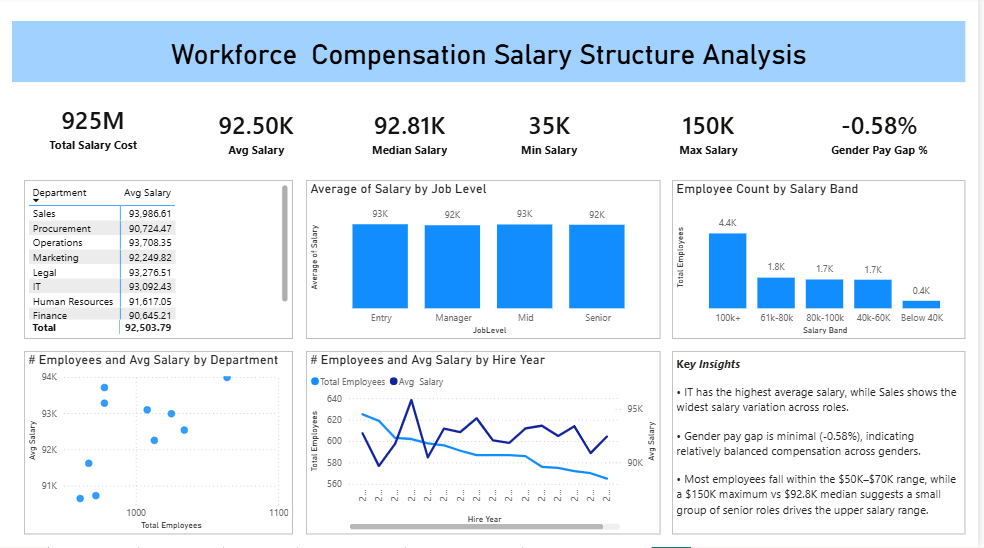

This screenshot's page, from the dashboard's own definition file:
{"tool":"powerbi","page":{"name":"Salary ","canvas":[1280,720],"ordinal":2},"visuals":[{"type":"clusteredColumnChart","title":"Average of Salary by Job Level","fields":{"Category":["DimJobRole.JobRole","DimJobRole.JobLevel"],"Y":["Avg(FactEmployee.Salary)"]},"box":[400,240,464,208],"z":0},{"type":"pivotTable","fields":{"Rows":["DimDepartment.Department"],"Values":["DimDepartment.Min Salary","DimDepartment.Max Salary","DimDepartment.Avg  Salary"]},"box":[32,240,352,208],"z":1000},{"type":"textbox","box":[880,464,384,240],"z":2000},{"type":"columnChart","title":"Employee Count by Salary Band","fields":{"Category":["FactEmployee.Salary Band"],"Y":["DimDepartment.Total Employees"]},"box":[880,240,384,208],"z":3000},{"type":"cardVisual","fields":{"Data":["DimDepartment.Total Salary Cost"]},"box":[0,96,224,128],"z":4000},{"type":"cardVisual","fields":{"Data":["DimDepartment.Avg  Salary"]},"box":[224,112,224,128],"z":5000},{"type":"cardVisual","fields":{"Data":["DimDepartment.Total Salary Cost"]},"box":[10,106,224,128],"z":6000},{"type":"cardVisual","fields":{"Data":["FactEmployee.Median Salary"]},"box":[416,112,240,128],"z":7000},{"type":"cardVisual","fields":{"Data":["DimDepartment.Min Salary"]},"box":[608,112,224,128],"z":8000},{"type":"cardVisual","fields":{"Data":["DimDepartment.Max Salary"]},"box":[816,112,224,128],"z":9000},{"type":"cardVisual","fields":{"Data":["FactEmployee.Gender Pay Gap %"]},"box":[1040,112,224,128],"z":10000},{"type":"card","fields":{"Values":["Date.Dynamic Title6"]},"box":[16,32,1248,80],"z":11000},{"type":"scatterChart","title":"# Employees and Avg  Salary by Department","fields":{"Category":["DimDepartment.Department"],"X":["DimDepartment.Total Employees"],"Y":["DimDepartment.Avg  Salary"]},"box":[32,464,352,240],"z":12000},{"type":"lineChart","title":"# Employees and Avg  Salary by Hire Year","fields":{"Y":["DimDepartment.Total Employees"],"Category":["FactEmployee.Hire Year"],"Y2":["DimDepartment.Avg  Salary"]},"box":[400,464,464,240],"z":13000}]}

Visuals, with their boxes in screenshot pixels (x1, y1, x2, y2), scaled from the page's 1280x720 canvas onto the 984x548 screenshot:
"Average of Salary by Job Level" clusteredColumnChart: BBox(308, 183, 664, 341)
pivotTable - DimDepartment.Department x DimDepartment.Min Salary: BBox(25, 183, 295, 341)
textbox: BBox(676, 353, 972, 536)
"Employee Count by Salary Band" columnChart: BBox(676, 183, 972, 341)
cardVisual - DimDepartment.Total Salary Cost: BBox(0, 73, 172, 170)
cardVisual - DimDepartment.Avg  Salary: BBox(172, 85, 344, 183)
cardVisual - DimDepartment.Total Salary Cost: BBox(8, 81, 180, 178)
cardVisual - FactEmployee.Median Salary: BBox(320, 85, 504, 183)
cardVisual - DimDepartment.Min Salary: BBox(467, 85, 640, 183)
cardVisual - DimDepartment.Max Salary: BBox(627, 85, 800, 183)
cardVisual - FactEmployee.Gender Pay Gap %: BBox(800, 85, 972, 183)
card - Date.Dynamic Title6: BBox(12, 24, 972, 85)
"# Employees and Avg  Salary by Department" scatterChart: BBox(25, 353, 295, 536)
"# Employees and Avg  Salary by Hire Year" lineChart: BBox(308, 353, 664, 536)
